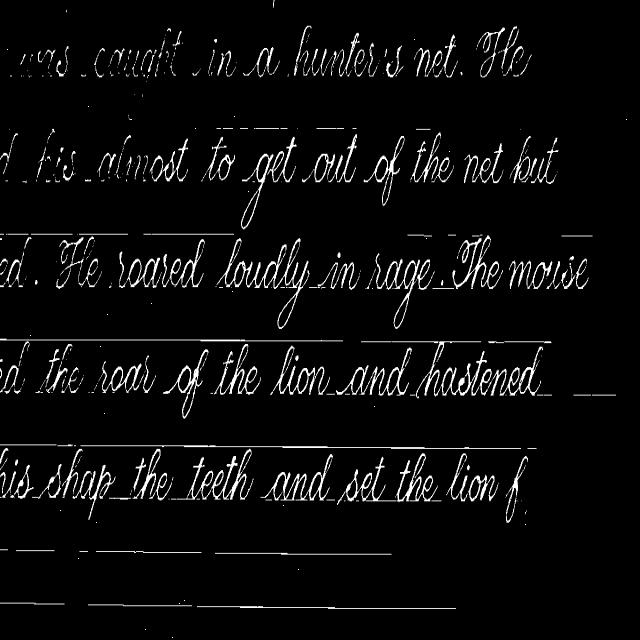noise: (86, 601, 456, 612), (80, 444, 522, 452), (78, 548, 392, 557), (0, 337, 346, 343), (0, 230, 234, 236), (216, 126, 360, 132), (360, 340, 482, 345), (539, 390, 618, 397), (486, 340, 552, 348), (0, 442, 76, 448), (0, 547, 59, 554), (0, 601, 68, 607), (432, 280, 454, 291), (326, 388, 336, 396), (408, 233, 432, 236), (414, 128, 430, 132), (561, 235, 592, 237), (527, 447, 537, 452), (447, 232, 457, 236), (472, 233, 482, 236)
not-noise: (0, 235, 588, 328), (78, 26, 467, 78), (270, 354, 541, 397), (0, 464, 255, 502), (20, 129, 188, 183), (261, 464, 442, 503), (35, 356, 157, 394), (241, 136, 297, 196), (363, 137, 406, 204), (476, 28, 532, 77), (300, 136, 358, 183), (508, 136, 558, 184), (410, 132, 454, 183), (210, 356, 267, 395), (445, 465, 500, 501), (462, 143, 506, 184), (20, 46, 72, 76), (130, 448, 160, 498), (506, 455, 528, 523), (160, 364, 208, 395), (396, 452, 427, 500), (228, 449, 252, 499), (208, 138, 236, 179), (0, 365, 39, 393), (241, 182, 262, 229), (0, 134, 22, 175), (63, 449, 81, 497), (448, 452, 466, 492), (0, 446, 8, 475)
